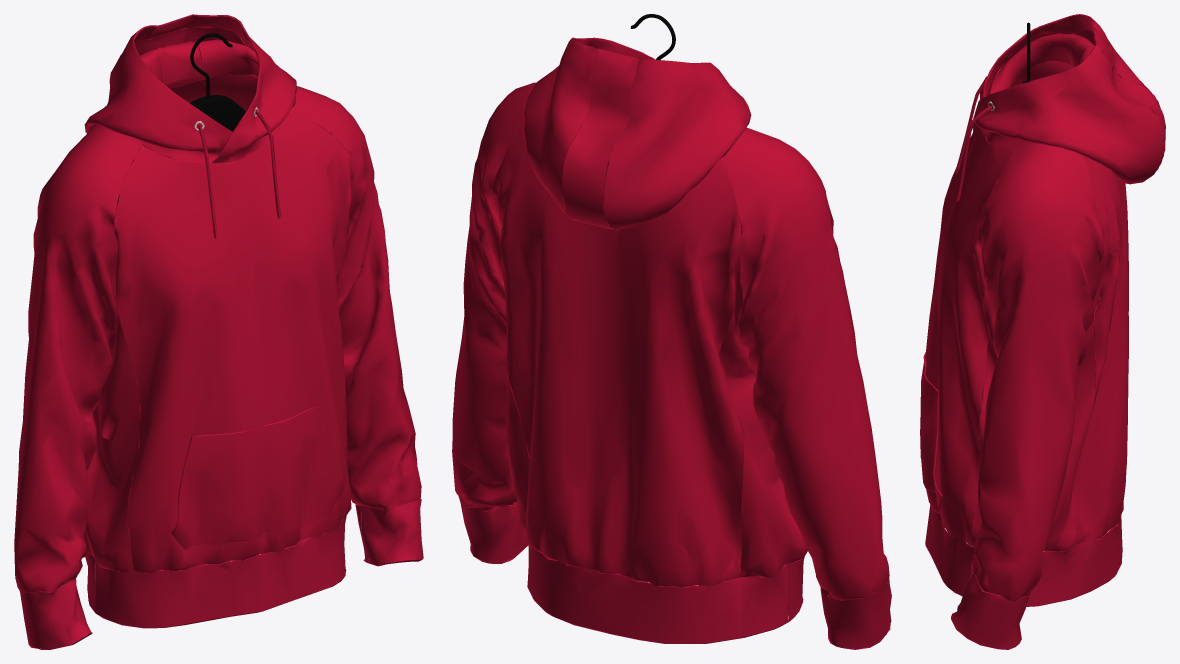
The model's file is red-hoodie.glb.
3 renders of one model, left to right at view 1: azimuth 30°, elevation 25°; view 2: azimuth 150°, elevation 25°; view 3: azimuth 270°, elevation 25°, orthographic. The views are drawn at different scales.
Visible parts, largest first — view 1: Object_10.001, polySurface053.007; view 2: Object_10.001; view 3: Object_10.001.
Boxes of the visible parts, box(x1,y1,x2,y2) form: Object_10.001: box(14, 14, 423, 649); polySurface053.007: box(117, 33, 246, 205); Object_10.001: box(452, 37, 891, 649); Object_10.001: box(920, 14, 1165, 649).
Size of the model in its own units: 0.6197 by 0.8226 by 0.3396.
2 materials, 1 textured.
